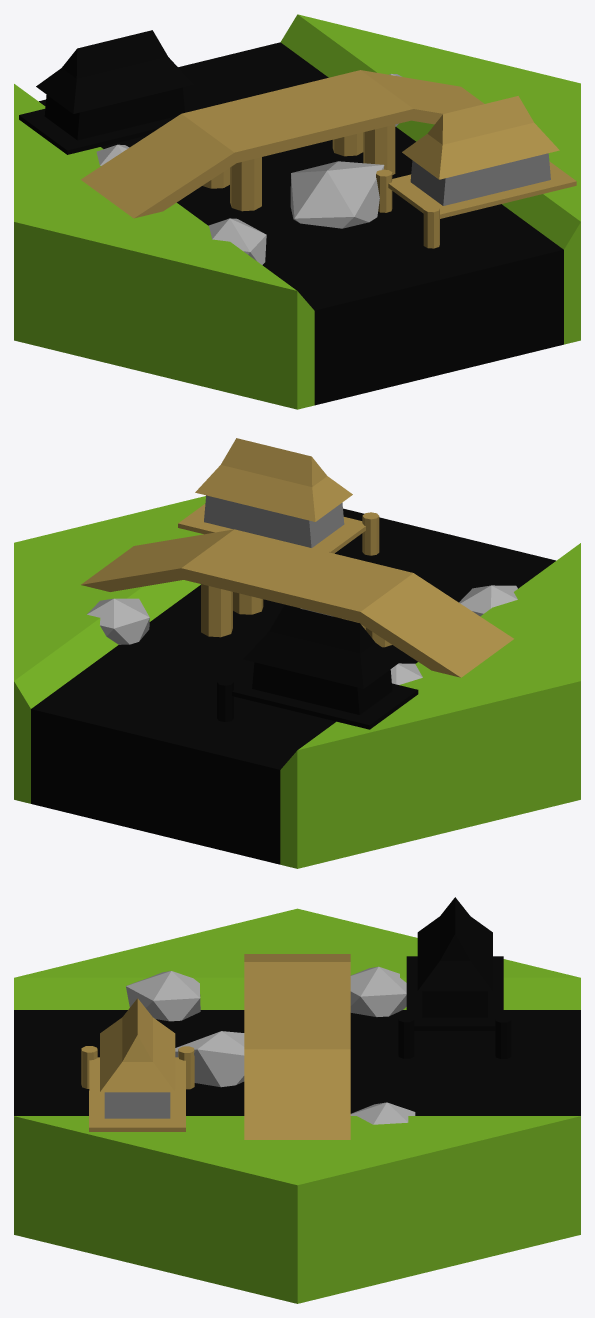
Rendered from Rio_3.fbx.
3 renders of one model, top to bottom at view 1: azimuth 30°, elevation 25°; view 2: azimuth 150°, elevation 25°; view 3: azimuth 270°, elevation 25°, orthographic.
Visible parts, largest first — view 1: Rio_3; view 2: Rio_3; view 3: Rio_3.
Part boxes in pixels (box(x1,y1,x2,y2)): Rio_3: box(14, 14, 580, 409); Rio_3: box(14, 438, 580, 868); Rio_3: box(14, 897, 580, 1303).
Size of the model in its own units: 200 by 67.29 by 173.
